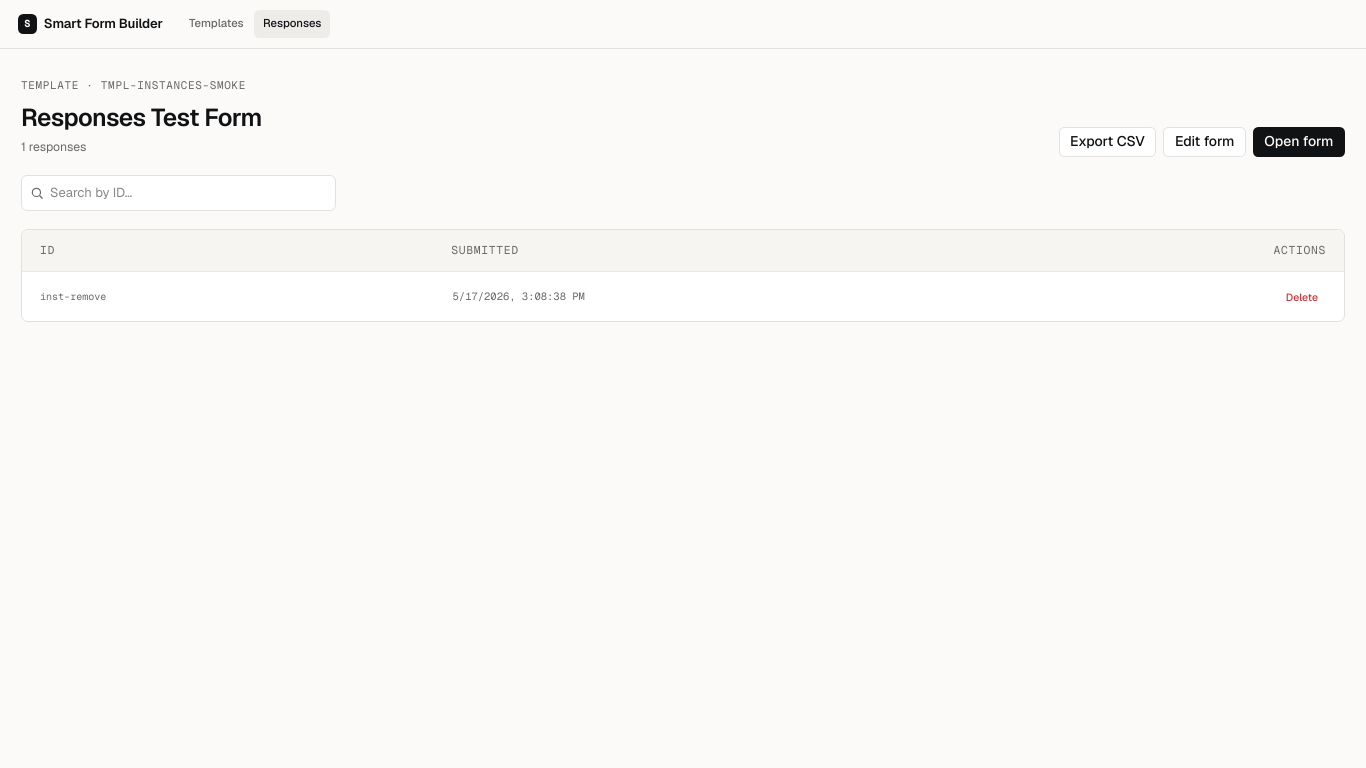
Test case: InstancesPage › delete flow › closes the modal and removes the response when confirmed
The image size is (1366, 768).
Click the button "Delete" at (1302, 297), box [1278,284,1326,309]
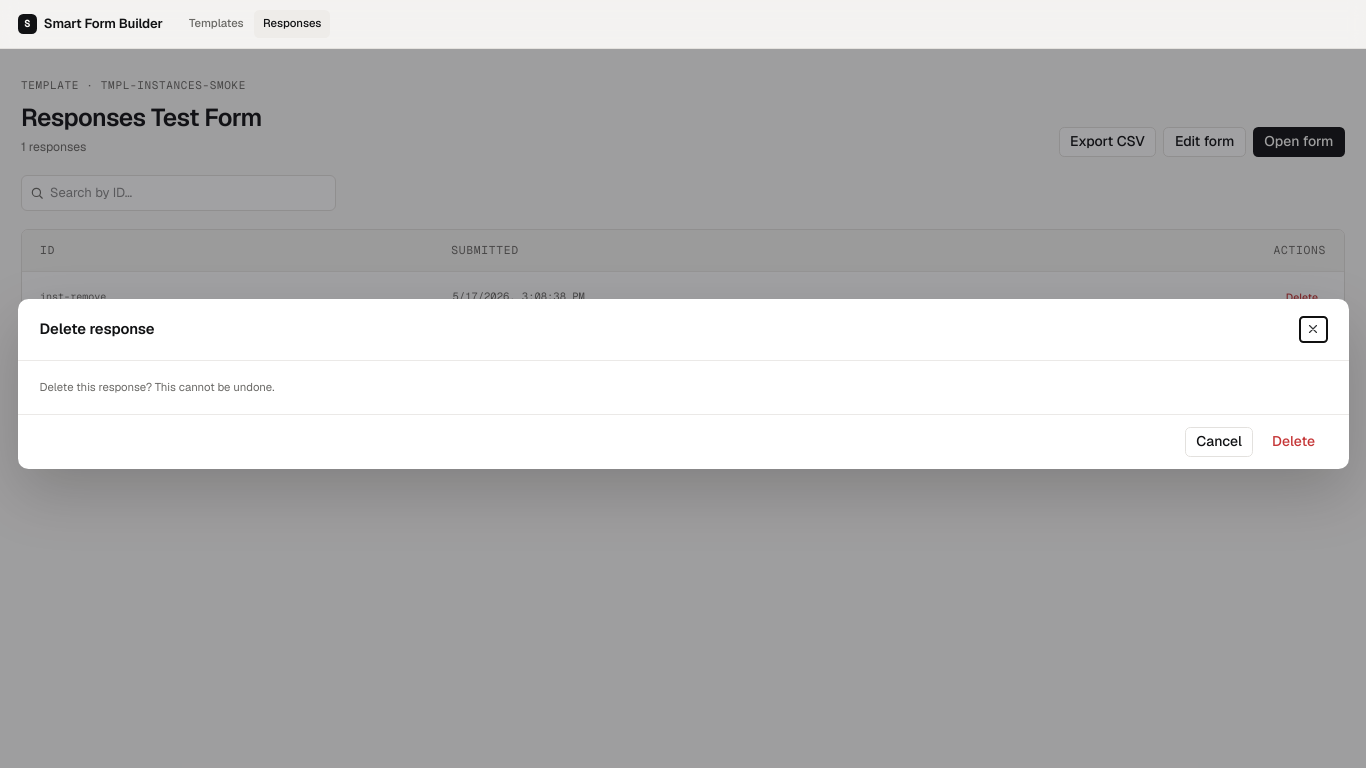
// Modal footer delete button is the last one
Click the button "Delete" at (1293, 442), box [1260,427,1326,457]
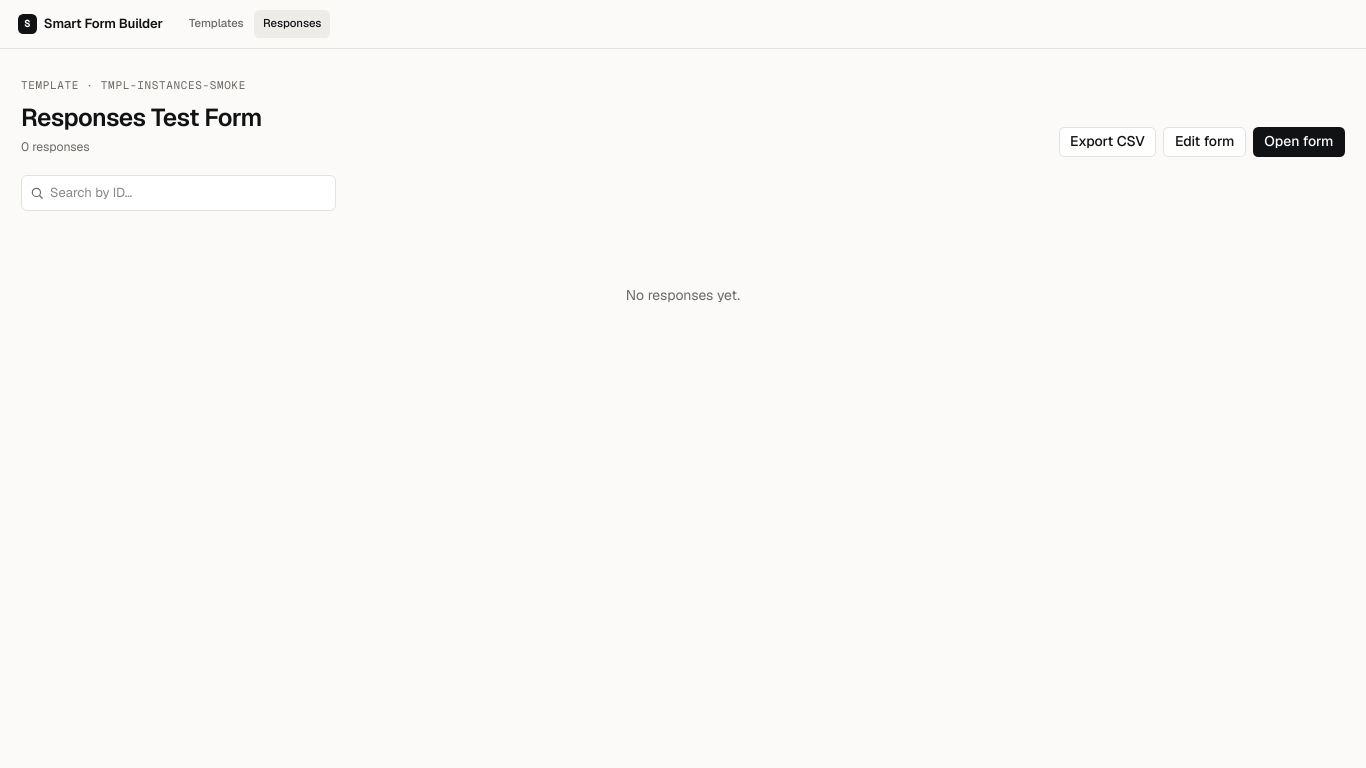
Check: the text "inst-remove" is gone
Check: the text "No responses yet." is shown, box [626,286,740,304]
